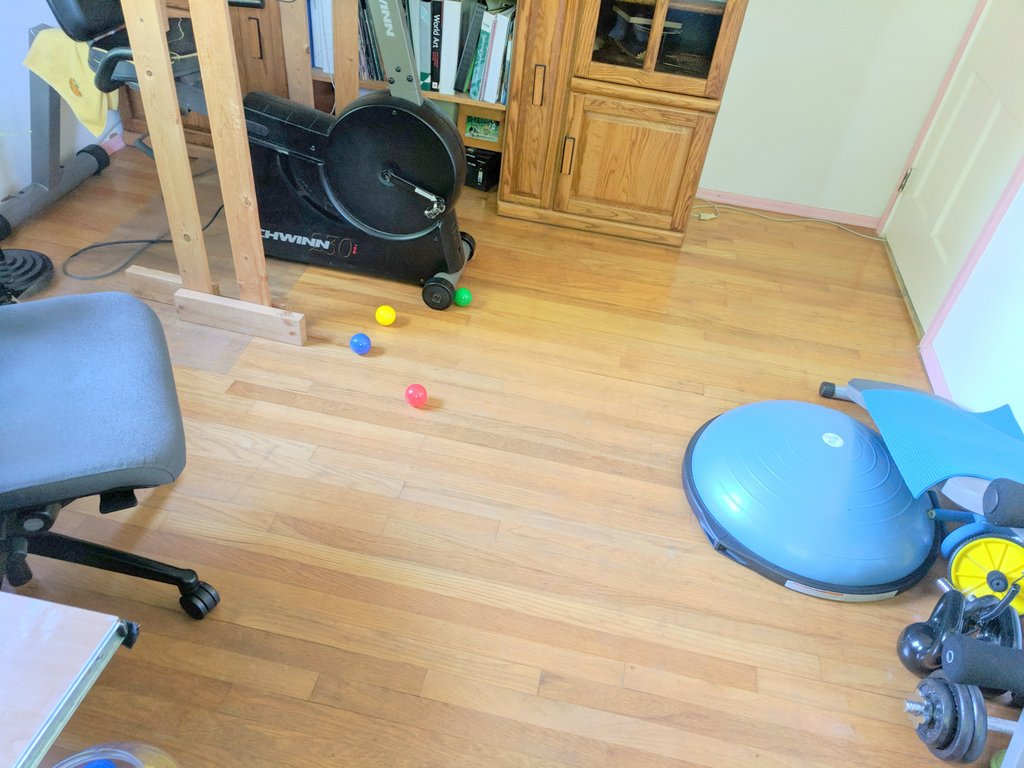ball: (453, 288, 473, 307)
